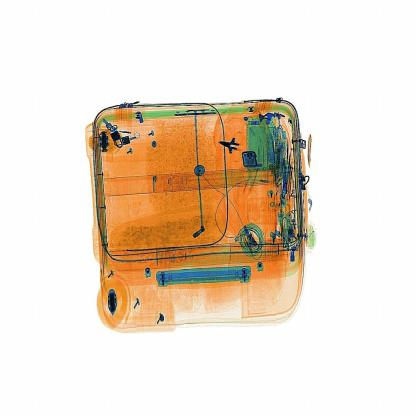gun: (218, 131, 245, 165)
